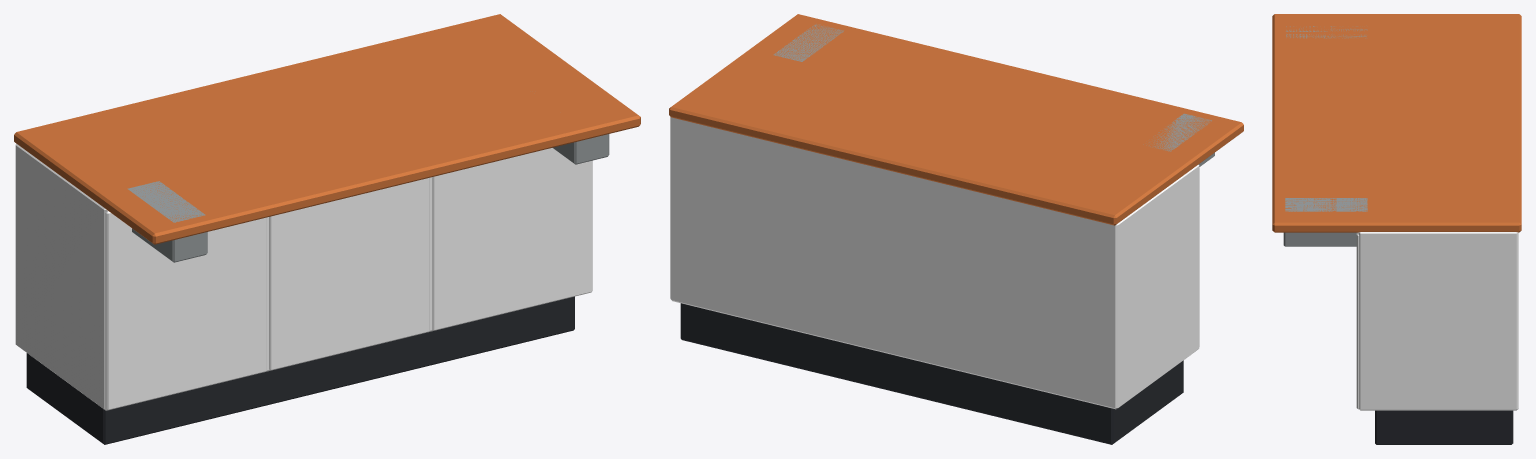
File: kitchen-island-1800.glb
The picture shows the model from 3 angles, left to right: view 1: azimuth 30°, elevation 25°; view 2: azimuth 150°, elevation 25°; view 3: azimuth 270°, elevation 25°; orthographic projection. The views are drawn at different scales.
Parts seen in each view (by area): view 1: kitchen-island-1800.tint, kitchen-island-1800.accent, kitchen-island-1800.graphite, kitchen-island-1800.metal; view 2: kitchen-island-1800.tint, kitchen-island-1800.accent, kitchen-island-1800.graphite, kitchen-island-1800.metal; view 3: kitchen-island-1800.accent, kitchen-island-1800.tint, kitchen-island-1800.graphite, kitchen-island-1800.metal.
Boxes of the visible parts, box(x1,y1,x2,y2) form: kitchen-island-1800.tint: box(15, 144, 592, 410); kitchen-island-1800.accent: box(14, 14, 640, 244); kitchen-island-1800.graphite: box(26, 296, 574, 444); kitchen-island-1800.metal: box(127, 134, 609, 262); kitchen-island-1800.tint: box(670, 117, 1199, 409); kitchen-island-1800.accent: box(669, 14, 1243, 225); kitchen-island-1800.graphite: box(680, 303, 1183, 444); kitchen-island-1800.metal: box(773, 24, 1214, 166); kitchen-island-1800.accent: box(1272, 14, 1521, 232); kitchen-island-1800.tint: box(1356, 232, 1518, 410); kitchen-island-1800.graphite: box(1375, 410, 1513, 444); kitchen-island-1800.metal: box(1283, 26, 1367, 246).
Bounding box in the file's own units: 1.8 × 0.9 × 0.9.
